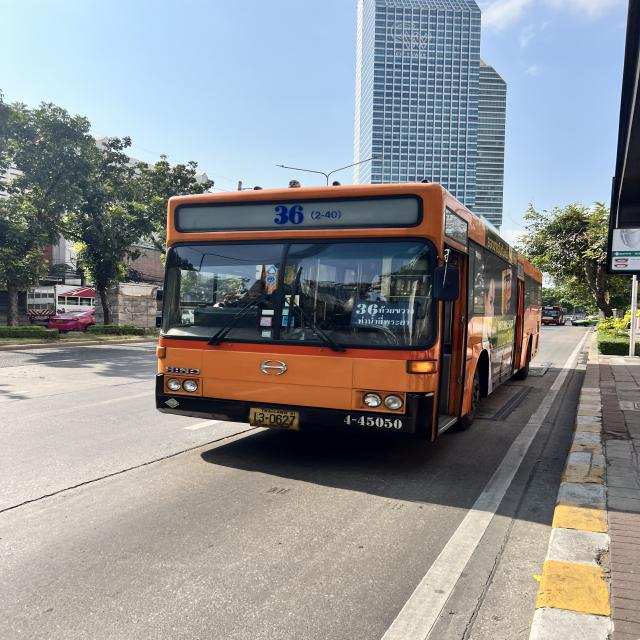BMTA-bus: (154, 184, 544, 442), (548, 305, 566, 325)
Bus-Line-Number: (267, 200, 344, 229)
Destination-Sign-Normal: (351, 300, 417, 333)
